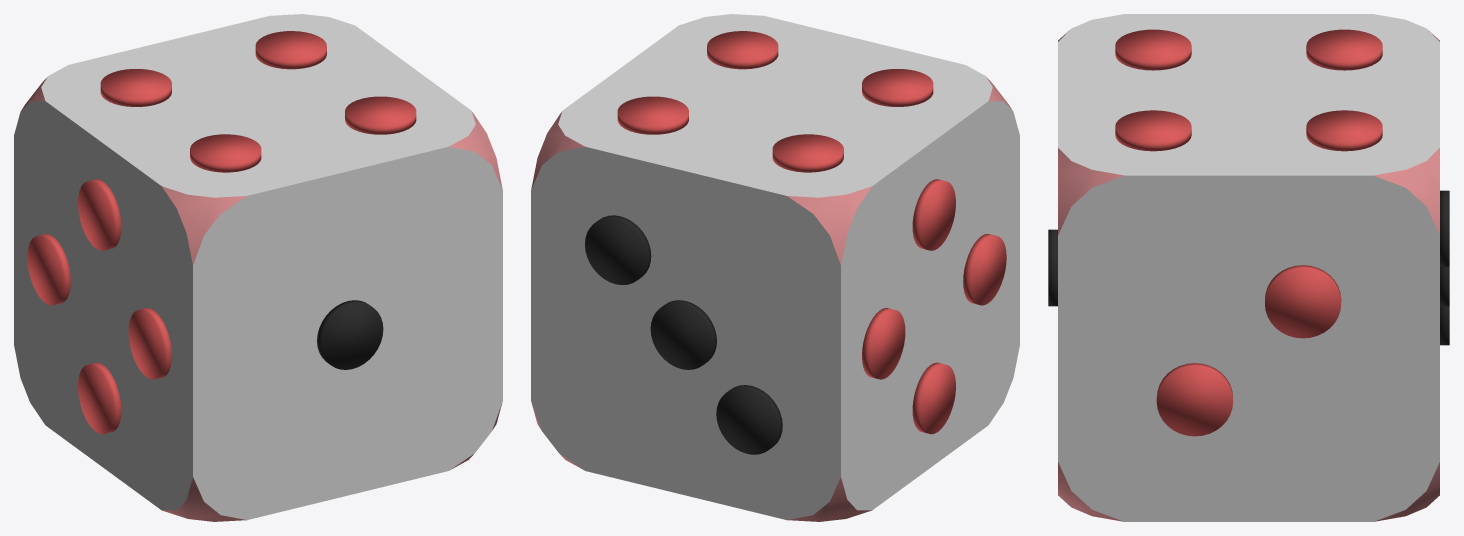
Rendered from red_dice_wow.glb.
3 views of the same model, side by side, from view 1: azimuth 30°, elevation 25°; view 2: azimuth 150°, elevation 25°; view 3: azimuth 270°, elevation 25° (orthographic). The views are drawn at different scales.
Parts seen in each view (by area): view 1: Dice; view 2: Dice; view 3: Dice.
Part boxes in pixels (x1,y1,x2,y2): Dice: (14,14,502,521); Dice: (531,14,1019,521); Dice: (1048,14,1449,521).
Bounding box in the file's own units: 2.1 × 2.1 × 2.1.
